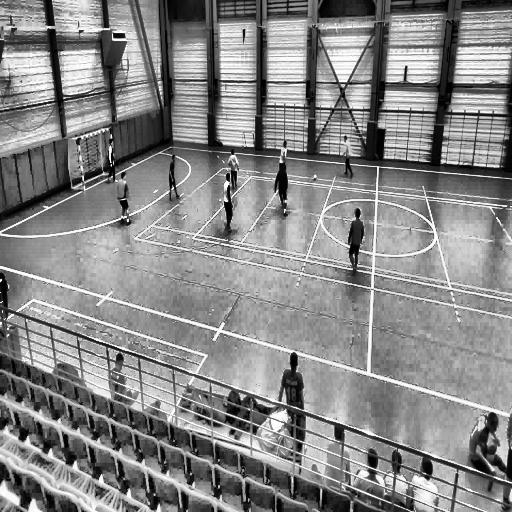ball: (312, 173, 318, 181)
player: (346, 207, 364, 277), (274, 159, 289, 216), (118, 171, 132, 225), (167, 153, 181, 202), (107, 136, 118, 184), (343, 133, 354, 178), (228, 148, 239, 190), (278, 140, 287, 170)
